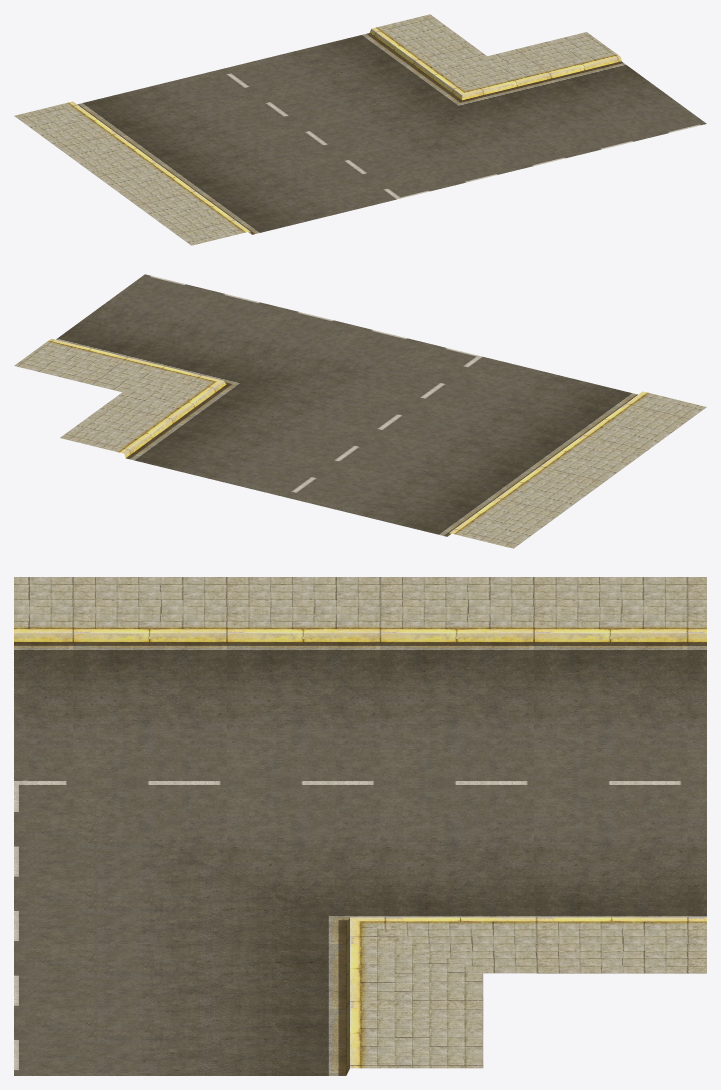
File: Road3_Half_T_C.fbx
3 renders of one model, top to bottom at view 1: azimuth 30°, elevation 25°; view 2: azimuth 150°, elevation 25°; view 3: azimuth 270°, elevation 25°, orthographic. The views are drawn at different scales.
Visible parts, largest first — view 1: Road_Half_T_C; view 2: Road_Half_T_C; view 3: Road_Half_T_C.
Part boxes in pixels (<box>): Road_Half_T_C: <box>14,14,706,245</box>; Road_Half_T_C: <box>14,274,706,548</box>; Road_Half_T_C: <box>14,577,706,1075</box>.
Bounding box in the file's own units: 2793 × 20.38 × 1666.
